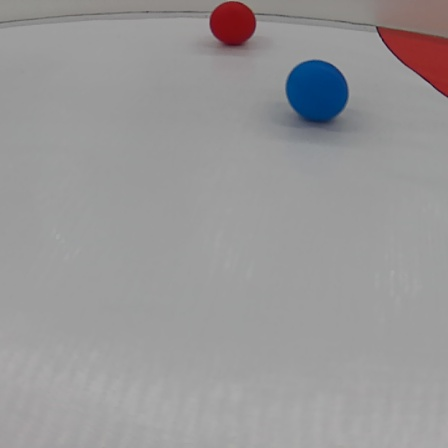blue: (285, 54, 350, 123)
red: (207, 2, 257, 46)
red_base: (377, 17, 448, 105)
